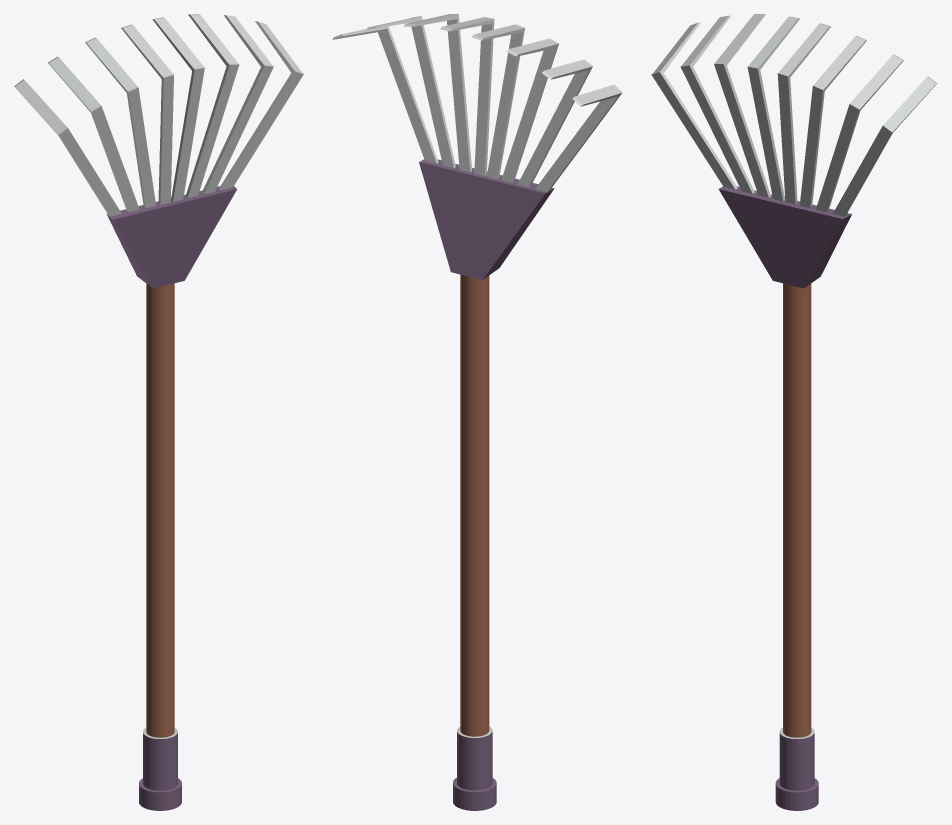
The model's file is rake.fbx.
3 views of the same model, side by side, from view 1: azimuth 30°, elevation 25°; view 2: azimuth 150°, elevation 25°; view 3: azimuth 330°, elevation 25° (orthographic).
Visible parts, largest first — view 1: Cube.001; view 2: Cube.001; view 3: Cube.001.
Part boxes in pixels (box(x1,y1,x2,y2)): Cube.001: box(14, 14, 303, 810); Cube.001: box(332, 14, 622, 810); Cube.001: box(651, 14, 937, 810).
Bounding box in the file's own units: 436 × 1290 × 145.
